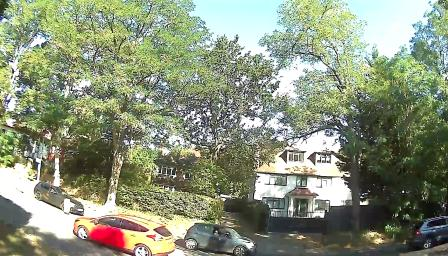Cars: (62, 201, 179, 252), (191, 222, 256, 256), (34, 179, 84, 216), (407, 214, 448, 245)
